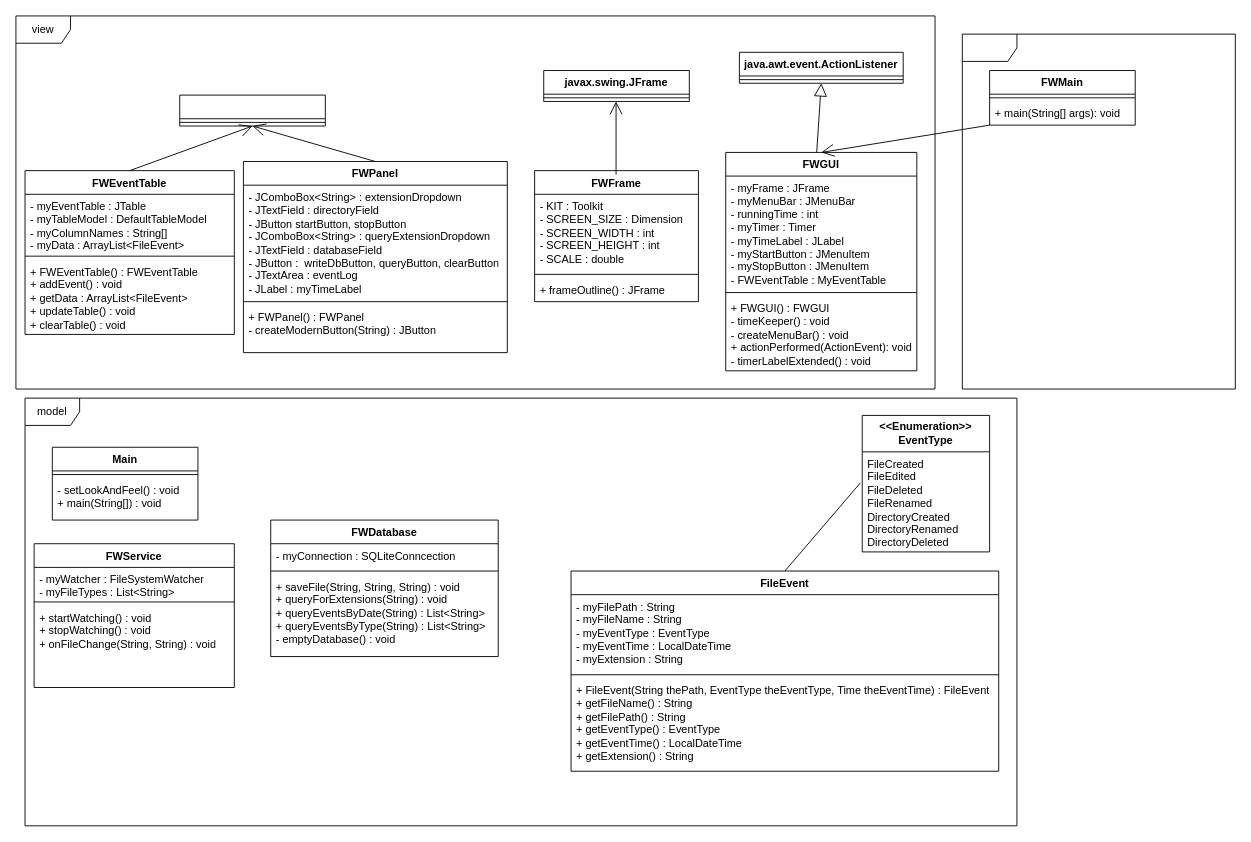
The diagram is 1251 pixels wide and 842 high, and some of its shapes have lost their labels. The shapes that lost their labels are listed below. From the top down, each one's centre as x and y in pixels, then its label:
At (252,110): "javax.swing.JPanel".
At (1098,211): "controller".
